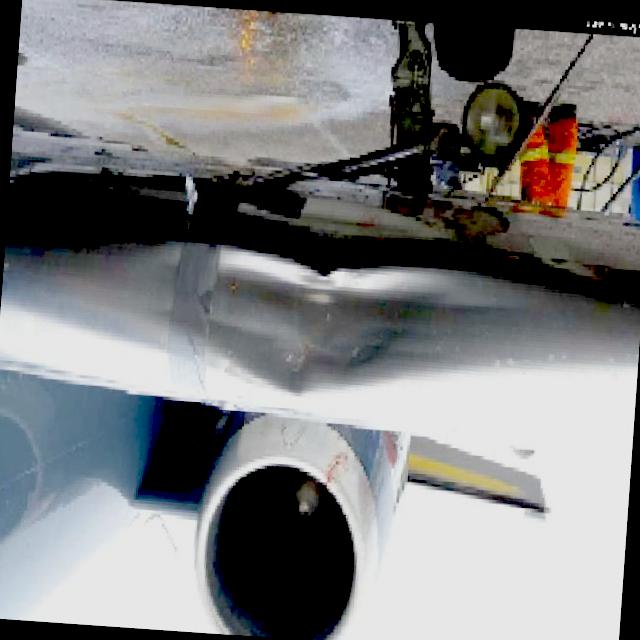dent: (128, 233, 538, 418)
